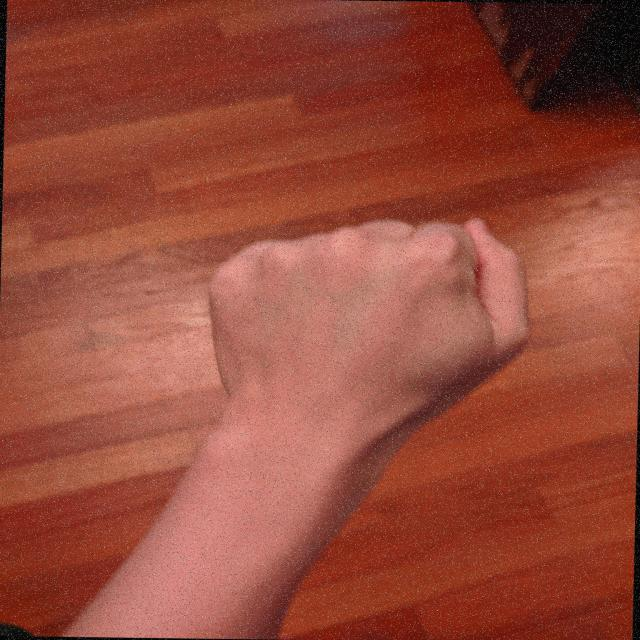A: (198, 209, 542, 450)
